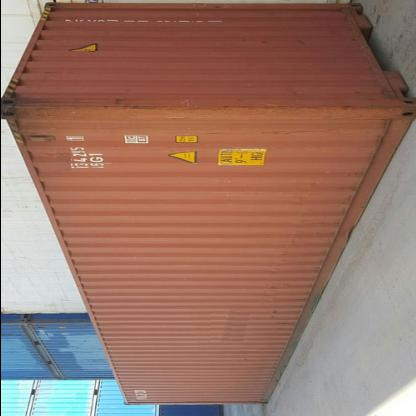Damage: (6, 99, 398, 121), (266, 217, 316, 277), (230, 130, 328, 144), (256, 281, 284, 320)
